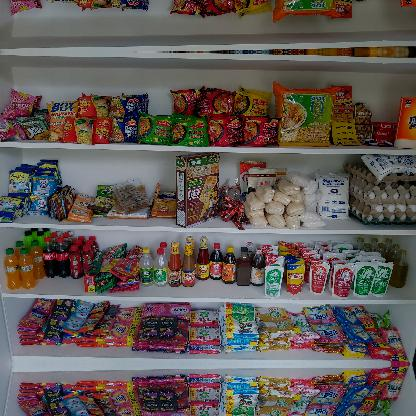Koko-Krunch: (173, 151, 220, 229)
